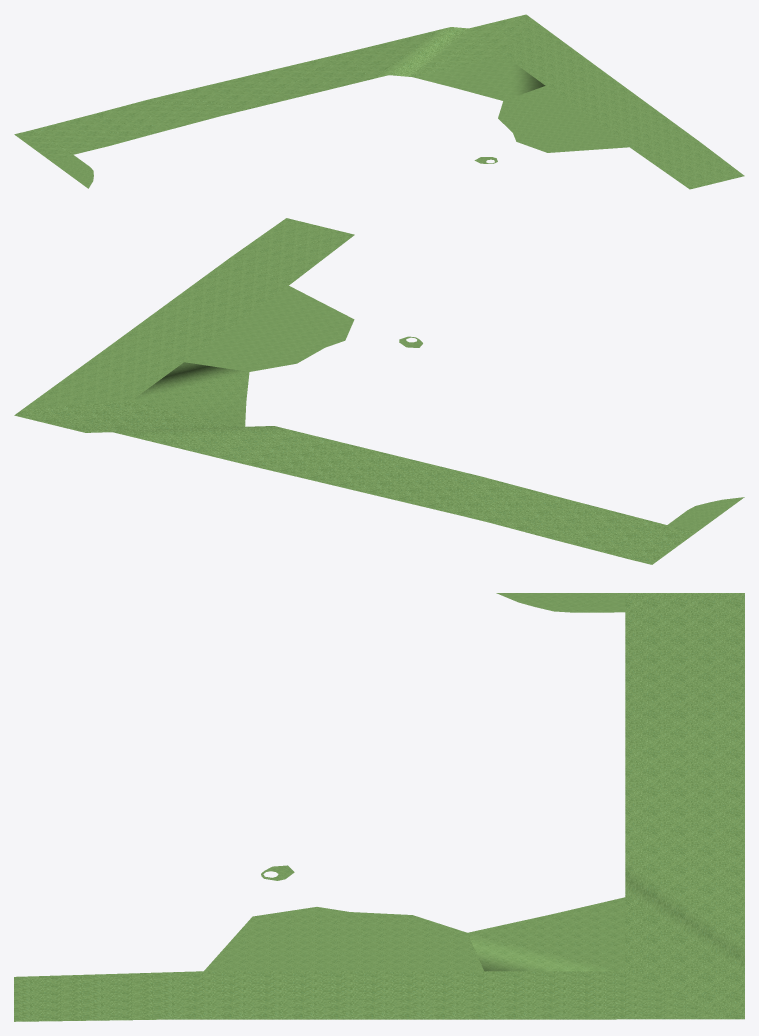
Rendered from kd_stage_135ded_4_136_bounded.glb.
3 renders of one model, top to bottom at view 1: azimuth 30°, elevation 25°; view 2: azimuth 150°, elevation 25°; view 3: azimuth 270°, elevation 25°, orthographic. The views are drawn at different scales.
Visible parts, largest first — view 1: kd_stage_135ded_4_136_bounded; view 2: kd_stage_135ded_4_136_bounded; view 3: kd_stage_135ded_4_136_bounded.
Part boxes in pixels (x1,y1,x2,y2): kd_stage_135ded_4_136_bounded: [14, 14, 744, 189]; kd_stage_135ded_4_136_bounded: [14, 218, 744, 564]; kd_stage_135ded_4_136_bounded: [14, 593, 744, 1021].
Bounding box in the file's own units: 18.12 × 0.3127 × 13.4.
1 material, 1 textured.
